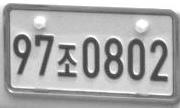0: (126, 37, 146, 81), (81, 36, 100, 79)
2: (149, 39, 168, 82)
7: (33, 33, 54, 76)
8: (103, 37, 124, 80)
9: (12, 33, 32, 75)
조: (57, 43, 77, 78)
